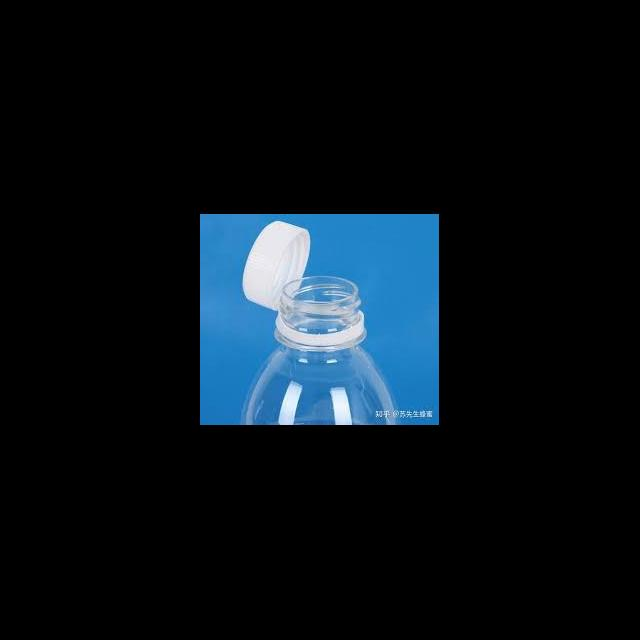plastic: (240, 276, 394, 424), (242, 220, 310, 310)
